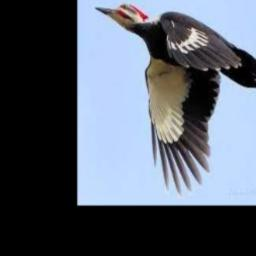Woodpecker: (94, 3, 256, 196)
